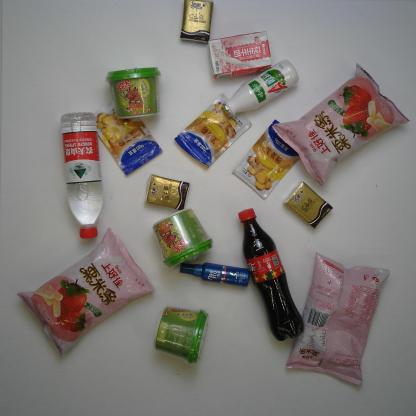Drink: (237, 208, 304, 342), (60, 111, 104, 239)
Instant Drink: (152, 306, 210, 365), (156, 208, 214, 267), (107, 66, 161, 119)
Milk: (221, 60, 299, 120), (208, 30, 273, 80)
Personal Hygiene: (178, 262, 251, 288)
Puffed Food: (16, 226, 155, 359), (272, 62, 410, 187), (284, 252, 390, 388)
Seasoner: (173, 92, 252, 169), (232, 118, 300, 199), (94, 102, 164, 176)
Tissue: (284, 180, 334, 228), (146, 174, 190, 210), (180, 1, 214, 43)
